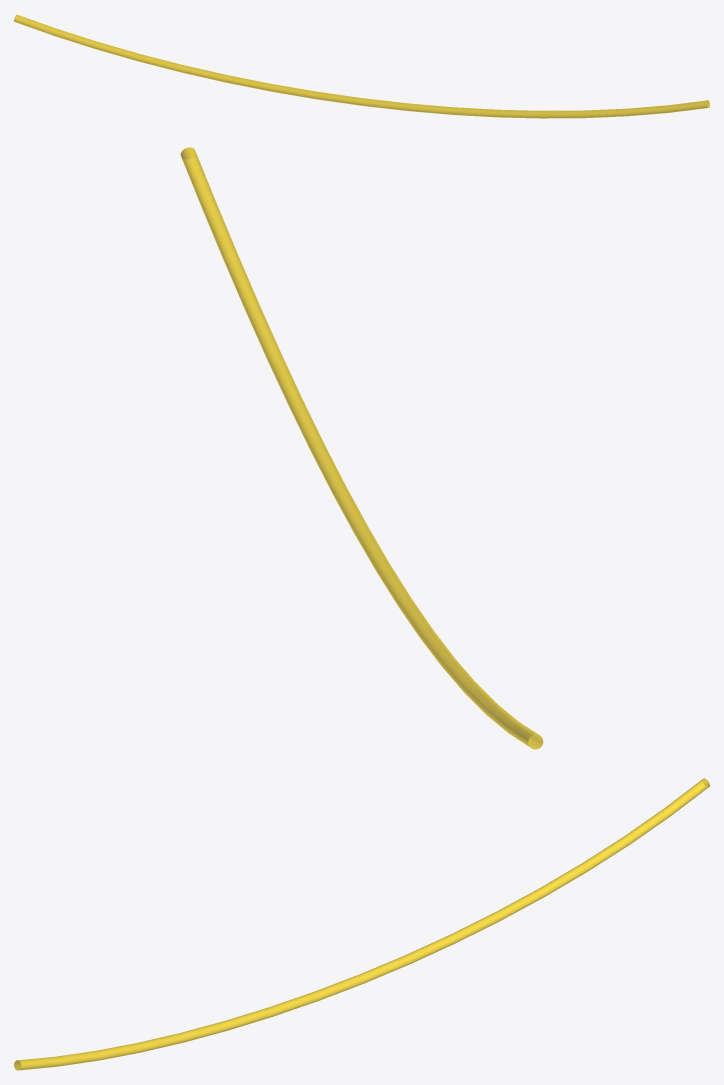
The model's file is Event_84804159_track_11.fbx.
The picture shows the model from 3 angles, top to bottom: view 1: azimuth 30°, elevation 25°; view 2: azimuth 150°, elevation 25°; view 3: azimuth 270°, elevation 25°; orthographic projection. The views are drawn at different scales.
Parts seen in each view (by area): view 1: Model; view 2: Model; view 3: Model.
Boxes of the visible parts, x1,y1,x2,y2 form: Model: [14, 14, 709, 118]; Model: [180, 147, 543, 749]; Model: [14, 778, 709, 1070].
Bounding box in the file's own units: 2.61 × 0.278 × 2.71.
